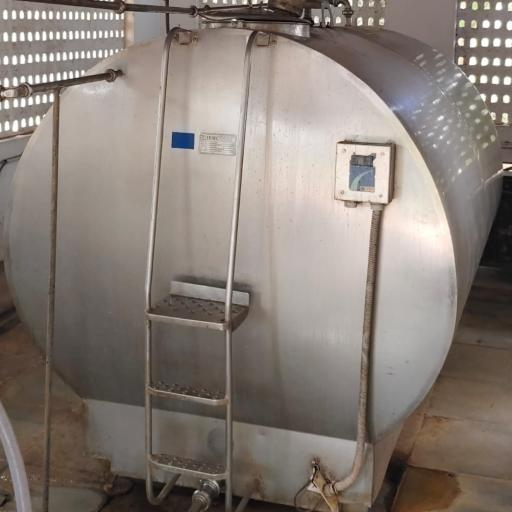silo: (4, 12, 501, 510)
